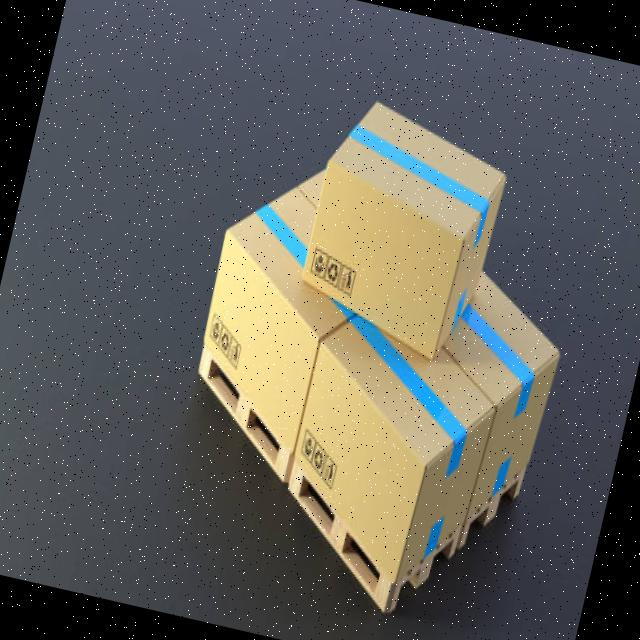Wooden-Pallets: (275, 460, 462, 628), (186, 334, 291, 486), (456, 452, 537, 568)
